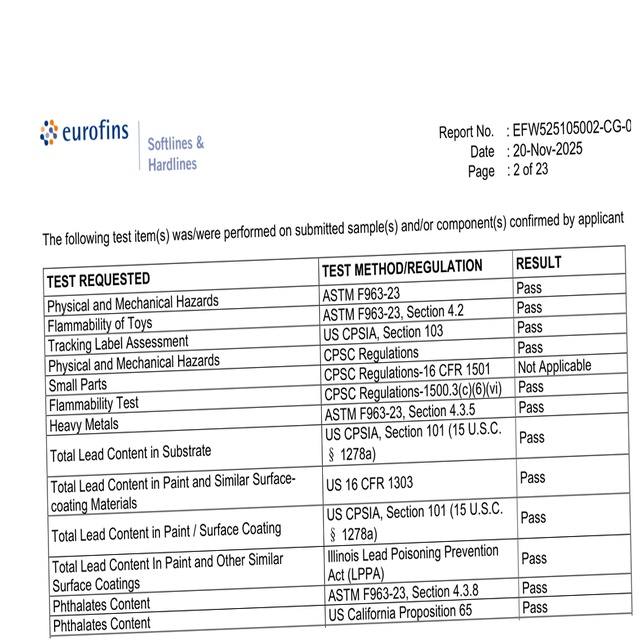eurofins: (34, 112, 132, 150)
